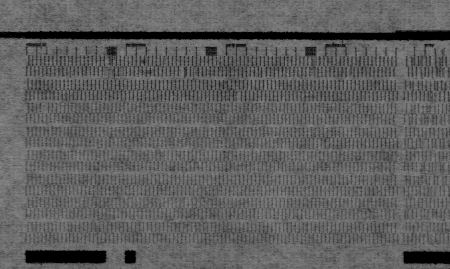Oblique printing: (403, 53, 450, 244), (182, 54, 202, 81), (106, 53, 122, 81), (344, 64, 356, 79)
